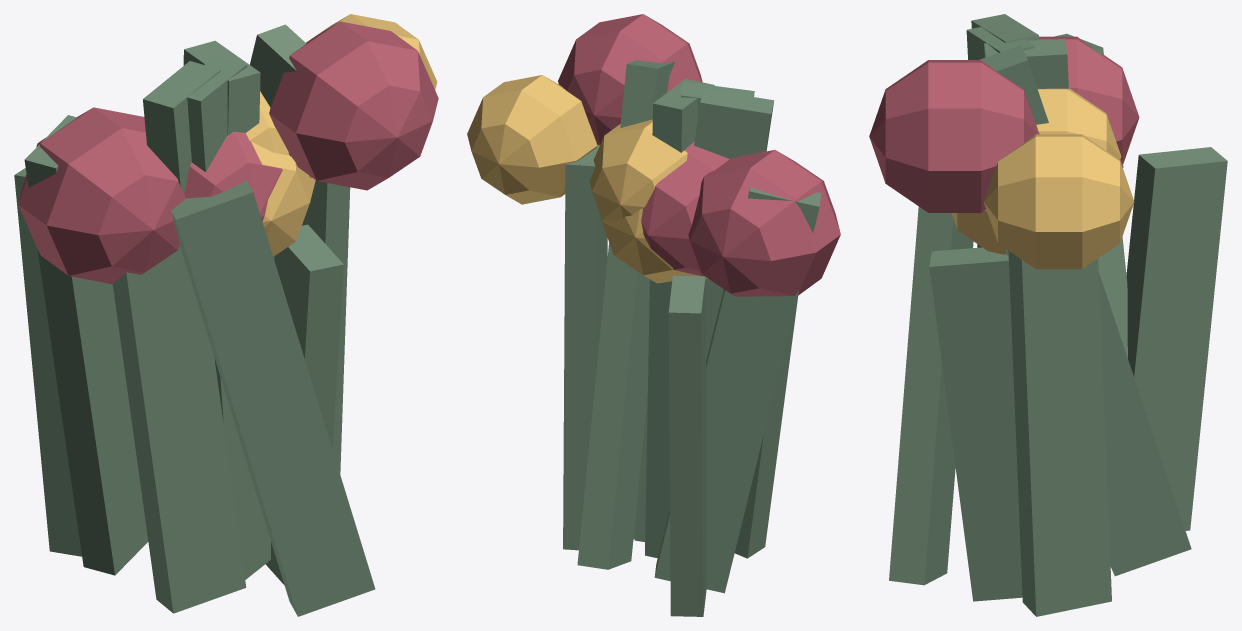
File: mdl_vegetation_flowers_patch_001.glb
3 views of the same model, side by side, from view 1: azimuth 30°, elevation 25°; view 2: azimuth 150°, elevation 25°; view 3: azimuth 270°, elevation 25° (orthographic). The views are drawn at different scales.
Visible parts, largest first — view 1: m_manigua, m_carmesi, m_ambar; view 2: m_manigua, m_carmesi, m_ambar; view 3: m_manigua, m_carmesi, m_ambar.
Part boxes in pixels (<box>): m_manigua: <box>14,24,375,616</box>; m_carmesi: <box>18,21,438,284</box>; m_ambar: <box>246,14,437,256</box>; m_manigua: <box>563,60,821,616</box>; m_carmesi: <box>558,14,840,296</box>; m_ambar: <box>467,75,707,283</box>; m_manigua: <box>889,14,1227,616</box>; m_carmesi: <box>869,36,1139,212</box>; m_ambar: <box>951,88,1134,269</box>.
Size of the model in its own units: 0.3675 by 0.4904 by 0.2905.
